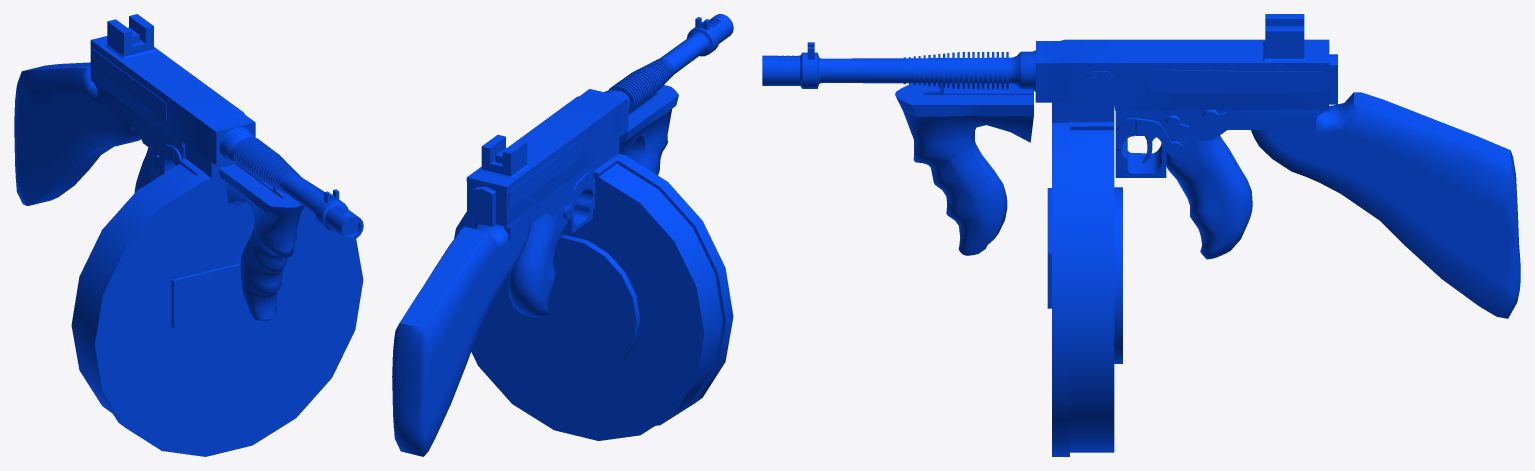
Rendered from Tommy Gun Fixed.FBX.
The picture shows the model from 3 angles, left to right: view 1: azimuth 30°, elevation 25°; view 2: azimuth 150°, elevation 25°; view 3: azimuth 270°, elevation 25°; orthographic projection. The views are drawn at different scales.
Visible parts, largest first — view 1: DrumMagazine, TommyGun; view 2: DrumMagazine, TommyGun; view 3: TommyGun, DrumMagazine.
Part boxes in pixels (x1,y1,x2,y2): DrumMagazine: (71, 144, 363, 456); TommyGun: (14, 14, 363, 321); DrumMagazine: (454, 138, 733, 440); TommyGun: (392, 14, 733, 456); TommyGun: (762, 14, 1520, 318); DrumMagazine: (1047, 102, 1122, 456).
Bounding box in the file's own units: 41.02 × 51.72 × 85.47.
